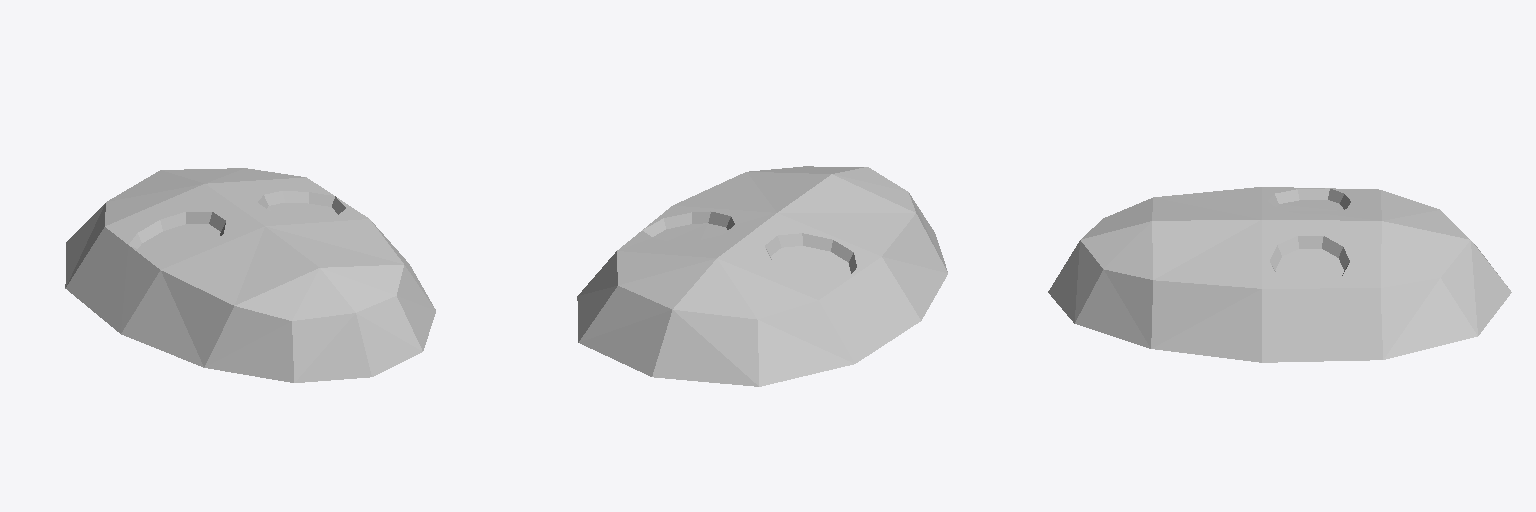
The model's file is mask_mx_2_1.obj.
3 renders of one model, left to right at view 1: azimuth 30°, elevation 25°; view 2: azimuth 150°, elevation 25°; view 3: azimuth 270°, elevation 25°, orthographic.
Visible parts, largest first — view 1: mask_mx_2_1; view 2: mask_mx_2_1; view 3: mask_mx_2_1.
Boxes of the visible parts, box(x1,y1,x2,y2) form: mask_mx_2_1: box(65, 168, 435, 382); mask_mx_2_1: box(577, 166, 947, 386); mask_mx_2_1: box(1048, 187, 1511, 362).
Bounding box in the file's own units: 0.2297 × 0.0554 × 0.3198.